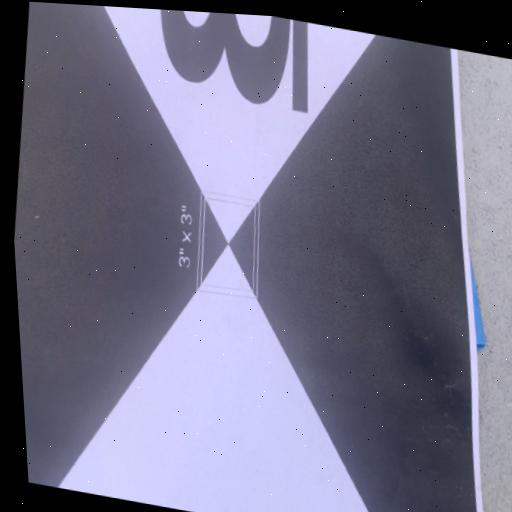target8: (14, 2, 485, 512)
